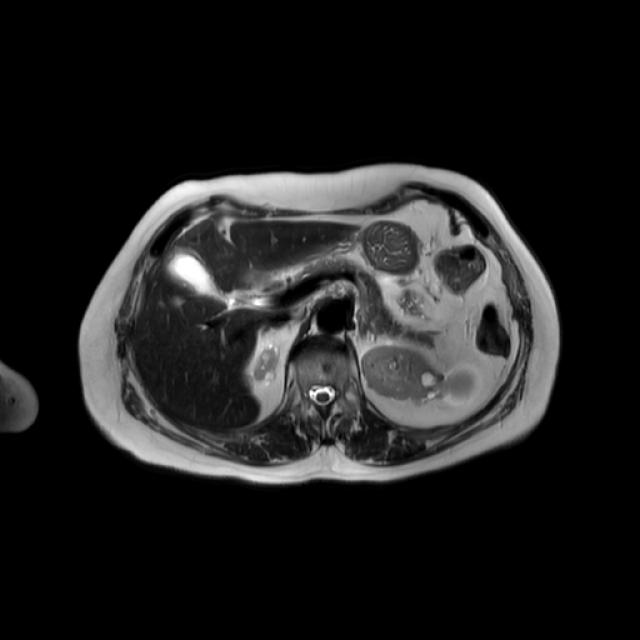sag: (253, 345, 279, 384)
sol: (359, 343, 477, 402)
